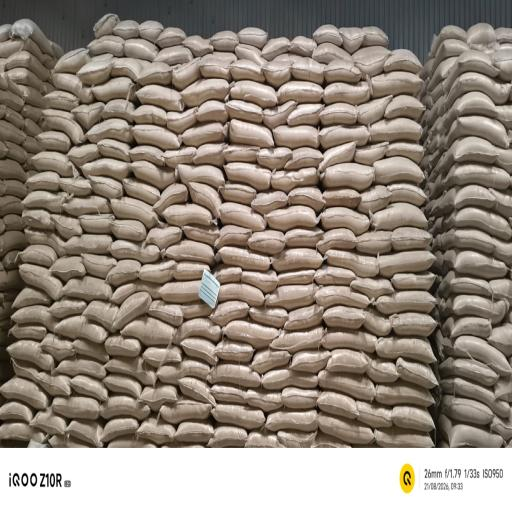Rice-bag-10: (443, 335, 512, 375), (442, 377, 509, 416), (446, 72, 512, 107), (444, 207, 512, 239), (440, 415, 503, 447), (444, 91, 498, 128), (448, 116, 509, 148), (446, 50, 500, 86), (441, 137, 498, 170), (444, 294, 508, 323), (444, 250, 507, 279), (318, 412, 374, 444), (443, 163, 510, 189), (436, 185, 496, 214), (319, 370, 375, 401), (439, 357, 498, 386), (122, 316, 176, 346), (0, 376, 49, 409), (376, 336, 435, 363), (376, 379, 434, 406), (20, 263, 62, 300), (379, 250, 435, 277), (270, 325, 324, 353), (224, 320, 278, 348), (322, 162, 374, 191), (372, 203, 427, 230), (55, 315, 108, 343), (442, 396, 493, 425), (326, 249, 378, 277), (106, 356, 156, 385), (376, 290, 436, 314), (43, 109, 84, 144), (111, 197, 157, 228), (7, 340, 54, 370), (114, 292, 152, 329), (440, 271, 492, 298), (160, 397, 212, 424), (440, 228, 496, 253), (212, 403, 265, 429), (265, 284, 318, 310), (322, 328, 377, 353), (224, 162, 271, 191), (11, 20, 52, 53), (373, 157, 423, 184), (265, 206, 318, 231), (180, 79, 229, 106), (5, 50, 49, 80), (230, 80, 277, 108), (322, 207, 369, 235), (396, 357, 437, 389), (130, 161, 175, 190), (220, 202, 265, 231), (372, 71, 422, 97), (100, 394, 150, 420), (218, 246, 270, 271), (132, 124, 180, 151), (157, 360, 210, 384), (315, 286, 370, 309), (229, 119, 274, 147), (319, 124, 369, 149), (62, 276, 112, 301), (136, 85, 184, 111), (271, 248, 323, 272), (207, 364, 261, 387), (53, 73, 94, 103), (370, 118, 421, 142), (109, 239, 160, 263), (177, 164, 224, 190), (271, 167, 318, 193), (376, 426, 434, 447), (261, 368, 318, 389), (175, 317, 221, 343), (188, 183, 222, 218), (352, 46, 390, 77), (164, 203, 213, 227), (391, 405, 434, 432), (166, 240, 214, 264), (390, 312, 436, 337), (181, 122, 227, 147), (25, 228, 66, 256), (319, 141, 356, 172), (317, 391, 359, 418), (139, 382, 178, 411), (323, 81, 370, 105), (12, 305, 57, 330), (266, 409, 317, 431), (83, 300, 118, 332), (33, 151, 76, 177), (273, 125, 319, 149), (86, 119, 134, 142), (52, 396, 100, 419), (56, 357, 106, 379), (154, 183, 188, 215), (442, 316, 491, 338), (199, 52, 236, 81), (317, 228, 357, 254), (288, 187, 325, 215), (181, 337, 218, 365), (66, 419, 103, 447), (179, 377, 216, 405), (82, 158, 129, 180), (92, 77, 135, 101), (357, 96, 392, 125), (210, 300, 249, 326), (23, 190, 67, 213), (277, 81, 323, 103), (433, 39, 469, 67), (327, 349, 369, 373), (385, 95, 425, 120), (123, 178, 160, 205), (30, 407, 67, 434), (219, 283, 264, 305), (0, 39, 43, 62), (70, 375, 108, 401), (263, 100, 297, 129), (41, 333, 76, 361), (104, 373, 142, 398), (350, 277, 393, 299), (0, 421, 45, 442), (159, 281, 200, 304), (64, 195, 111, 215), (65, 234, 112, 254), (77, 60, 113, 86), (387, 183, 426, 207), (147, 300, 183, 326), (356, 401, 392, 427), (54, 48, 91, 73), (139, 259, 176, 284), (292, 57, 325, 85), (391, 227, 431, 250), (432, 26, 466, 53), (19, 244, 57, 268), (101, 417, 139, 441), (245, 388, 283, 412), (106, 260, 141, 286), (251, 190, 287, 215), (81, 254, 117, 279), (50, 256, 86, 281), (173, 58, 201, 90), (72, 102, 104, 130), (429, 57, 456, 90), (7, 67, 44, 91), (324, 59, 361, 83), (384, 49, 421, 73), (248, 230, 285, 254), (215, 225, 252, 249), (323, 307, 365, 328), (385, 141, 423, 164), (320, 103, 358, 126), (105, 333, 141, 357), (242, 270, 278, 294), (315, 265, 356, 286), (284, 147, 323, 169), (287, 103, 324, 126), (110, 218, 147, 241), (193, 142, 227, 167), (137, 62, 172, 86), (73, 339, 108, 363), (391, 271, 435, 290), (220, 182, 256, 205), (183, 224, 219, 247), (313, 42, 352, 63), (208, 426, 247, 447), (282, 387, 319, 409), (227, 100, 262, 123), (13, 287, 51, 308), (323, 187, 361, 208), (285, 227, 323, 248), (88, 35, 124, 57), (102, 99, 135, 123), (262, 61, 291, 88), (357, 231, 391, 254), (167, 108, 197, 134), (176, 421, 213, 442), (49, 298, 86, 319), (36, 131, 71, 153), (230, 60, 265, 82), (257, 147, 292, 169), (155, 45, 193, 65), (98, 139, 131, 162), (363, 309, 391, 336), (51, 215, 82, 239), (111, 58, 143, 81), (124, 39, 157, 61), (467, 23, 496, 48), (45, 90, 79, 111), (196, 101, 228, 123), (492, 46, 512, 81), (129, 145, 164, 165), (79, 214, 114, 234), (0, 401, 33, 422), (0, 231, 27, 256), (339, 27, 364, 54), (22, 209, 54, 230), (235, 44, 267, 65), (134, 105, 166, 126), (164, 146, 196, 167), (183, 35, 213, 57), (238, 27, 268, 49), (10, 323, 46, 341), (223, 144, 259, 162), (262, 37, 290, 60), (28, 171, 60, 191), (212, 384, 245, 403), (0, 73, 24, 99), (93, 13, 119, 37), (0, 120, 26, 144), (157, 27, 186, 48), (313, 25, 342, 46), (18, 85, 44, 108), (0, 159, 26, 182), (12, 360, 39, 381), (211, 30, 238, 51), (289, 36, 316, 57), (0, 89, 24, 111), (139, 21, 164, 42), (362, 27, 388, 47), (3, 179, 27, 200), (113, 20, 139, 39), (428, 95, 445, 124), (6, 141, 27, 164), (0, 195, 22, 216), (21, 104, 42, 123), (4, 214, 23, 233), (22, 136, 41, 154), (495, 27, 512, 43), (431, 82, 444, 102)
other: (0, 0, 512, 60)
pile: (0, 15, 512, 447), (0, 19, 62, 383)
